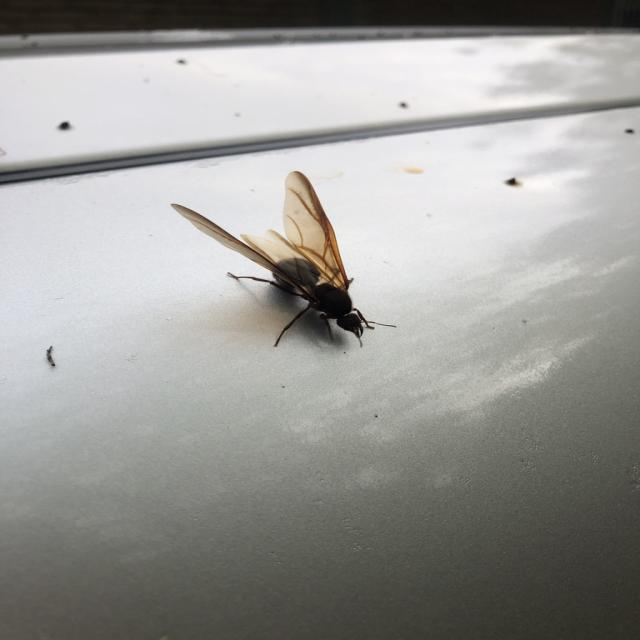Alive-Female-Alate: (170, 170, 397, 348)
